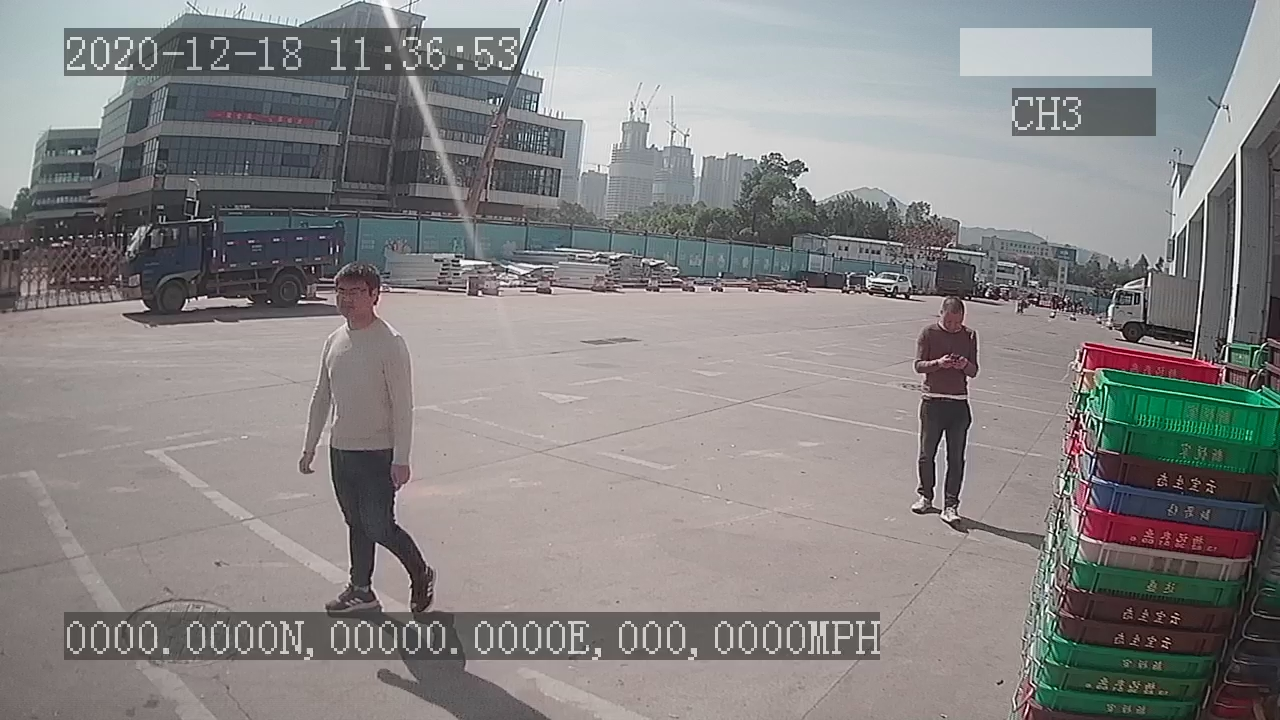person: (909, 290, 982, 531)
